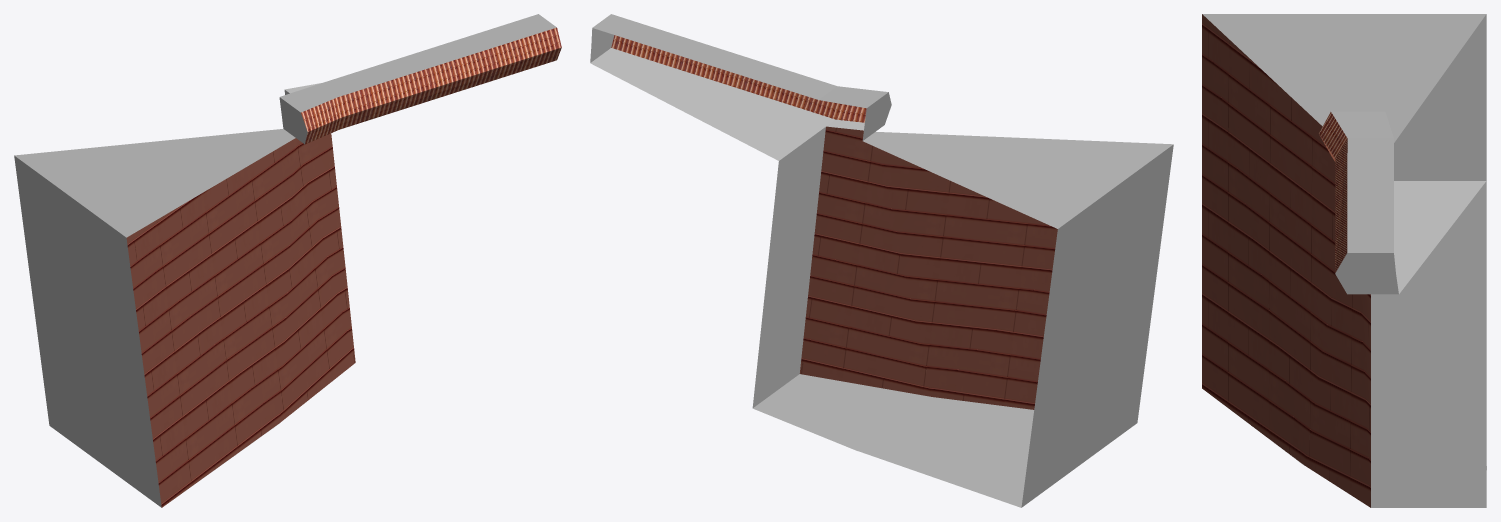
Rendered from Toom-Kooli_5_2-origo.obj.
3 renders of one model, left to right at view 1: azimuth 30°, elevation 25°; view 2: azimuth 150°, elevation 25°; view 3: azimuth 270°, elevation 25°, orthographic. The views are drawn at different scales.
Visible parts, largest first — view 1: Toom_Kooli_5_2; view 2: Toom_Kooli_5_2; view 3: Toom_Kooli_5_2.
Boxes of the visible parts, bbox=[...] form: Toom_Kooli_5_2: bbox=[14, 14, 561, 507]; Toom_Kooli_5_2: bbox=[590, 14, 1173, 507]; Toom_Kooli_5_2: bbox=[1202, 14, 1486, 507].
Size of the model in its own units: 15.56 by 10 by 6.22.
